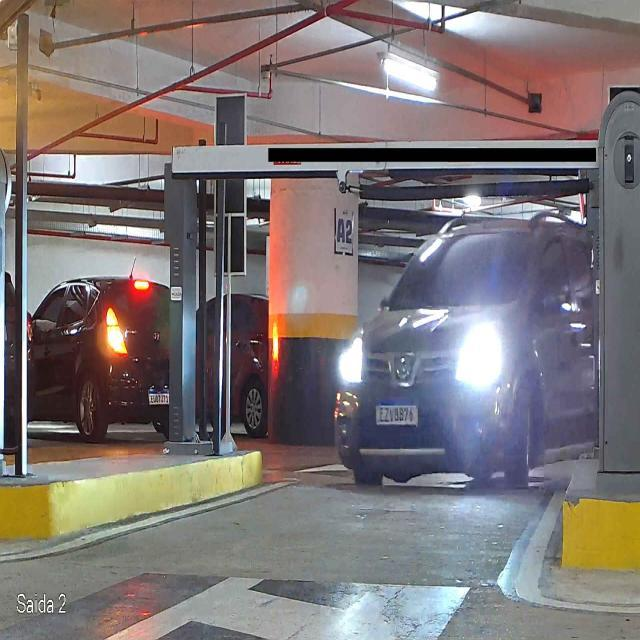mercosul_plate: (374, 399, 420, 428)
